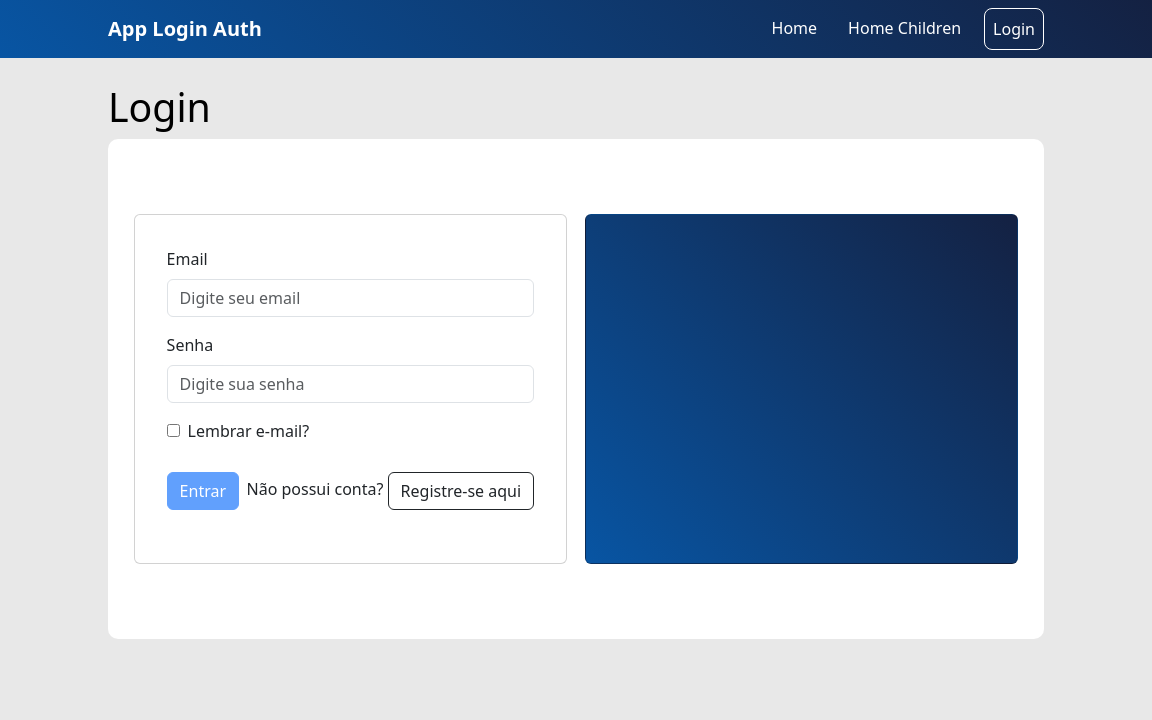
Test: Login Form › Deve exibir "Email obrigatório" após limpar o conteúdo do campo de email
This screenshot has width=1152, height=720.
Type "cidaluna@cypress.com" into the field with id "email" at (351, 298), box [167,279,535,317]
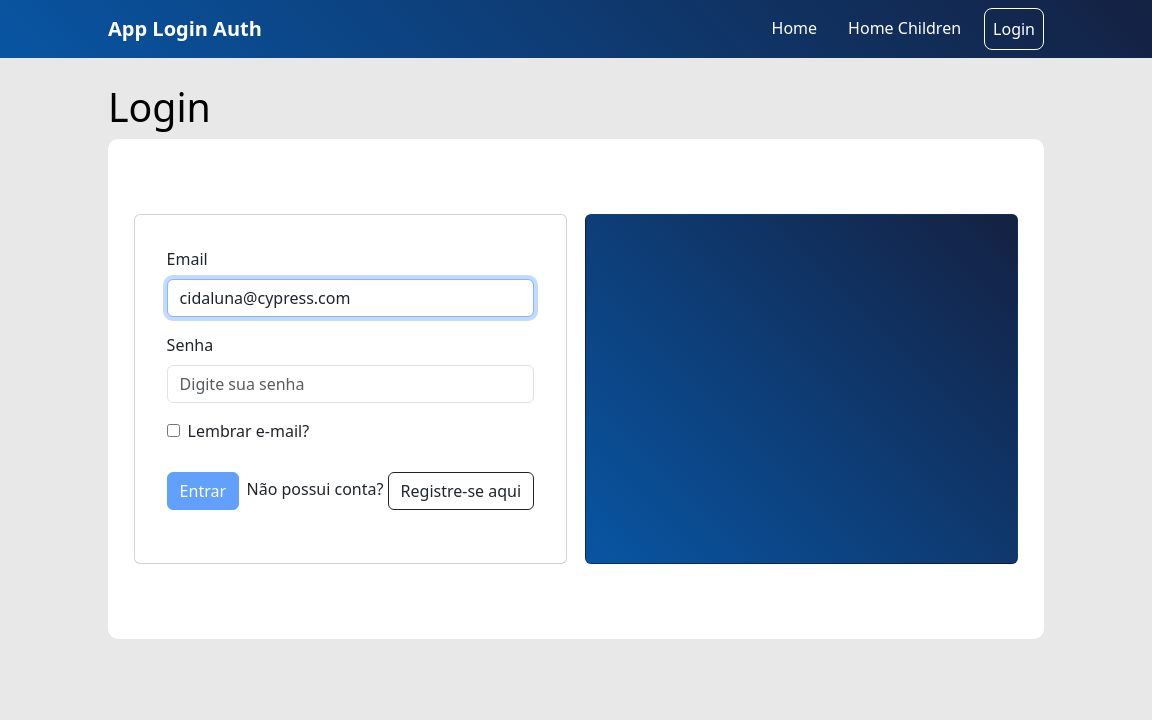
Clear the field with id "email" at (351, 298), box [167,279,535,317]
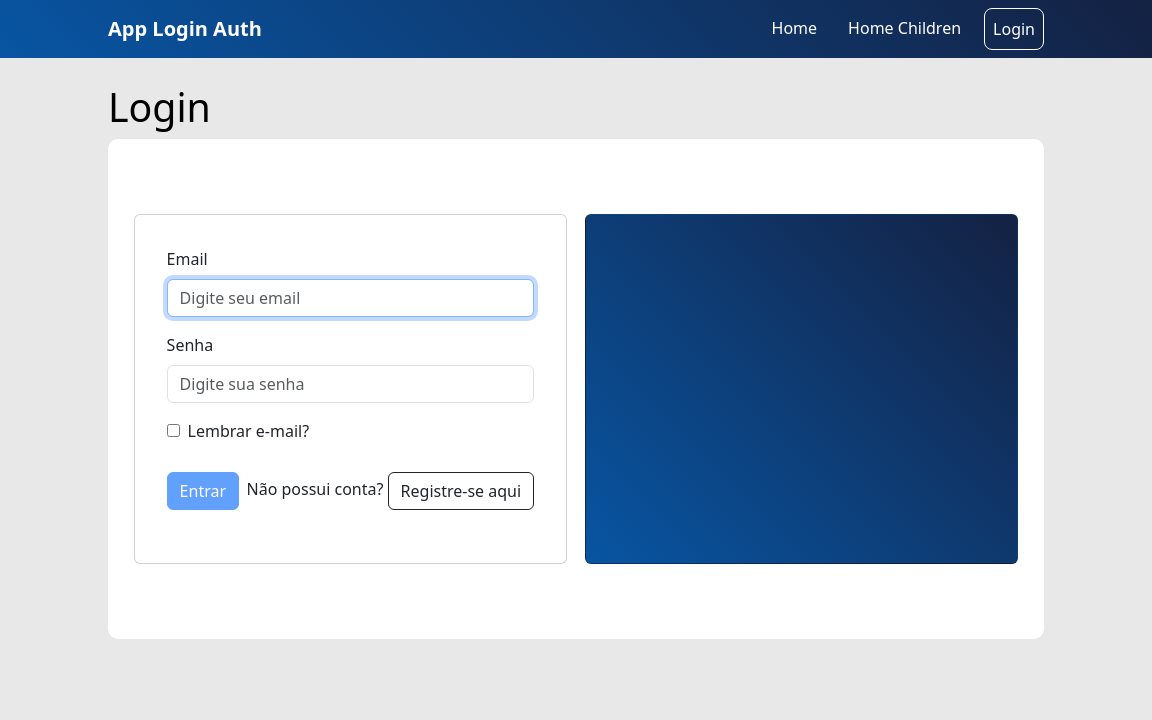
Leave the field with id "email", box [167,279,535,317]
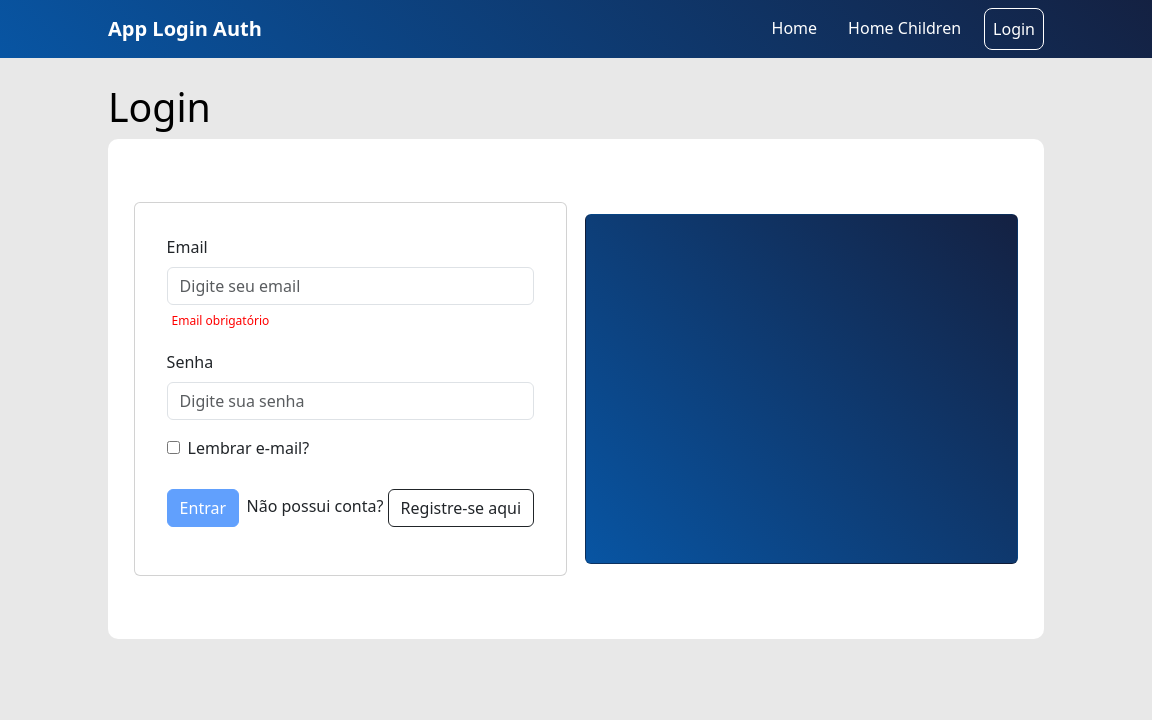
Now the text "Email obrigatório" is shown, box [172,312,269,329]
